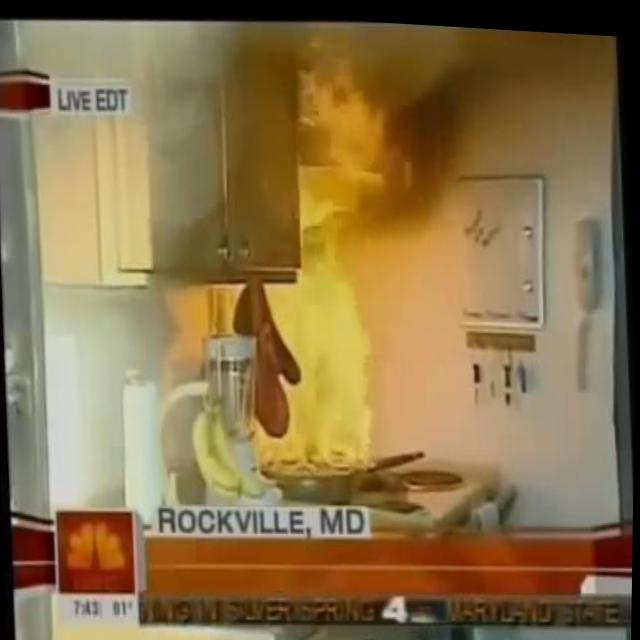fire: (218, 38, 422, 484)
